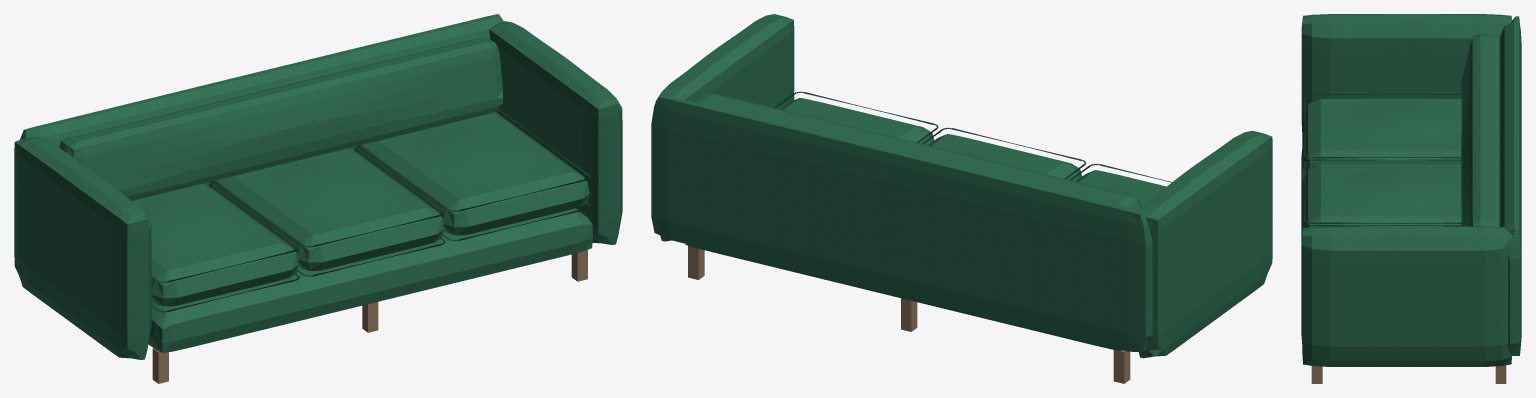
The model's file is FET-TUX-3-seat.glb.
3 renders of one model, left to right at view 1: azimuth 30°, elevation 25°; view 2: azimuth 150°, elevation 25°; view 3: azimuth 270°, elevation 25°, orthographic. The views are drawn at different scales.
Visible parts, largest first — view 1: inside-back:fabric:eyJwcmVzZXQiOiJ2ZWx2ZXQiLCJ3YXJwIjoiZW1lc, arm-pad-l:fabric:eyJwcmVzZXQiOiJ2ZWx2ZXQiLCJ3YXJwIjoiZW1lcmF, deck:fabric:eyJwcmVzZXQiOiJ2ZWx2ZXQiLCJ3YXJwIjoiZW1lcmFsZCIs, seat-3:fabric:eyJwcmVzZXQiOiJ2ZWx2ZXQiLCJ3YXJwIjoiZW1lcmFsZC, seat-2:fabric:eyJwcmVzZXQiOiJ2ZWx2ZXQiLCJ3YXJwIjoiZW1lcmFsZC, arm-pad-r:fabric:eyJwcmVzZXQiOiJ2ZWx2ZXQiLCJ3YXJwIjoiZW1lcmF, seat-1:fabric:eyJwcmVzZXQiOiJ2ZWx2ZXQiLCJ3YXJwIjoiZW1lcmFsZC, back-pad:fabric:eyJwcmVzZXQiOiJ2ZWx2ZXQiLCJ3YXJwIjoiZW1lcmFs, seat-2:piping:pbr, seat-3:piping:pbr, seat-1:piping:pbr, leg-fl:pbr; view 2: back-pad:fabric:eyJwcmVzZXQiOiJ2ZWx2ZXQiLCJ3YXJwIjoiZW1lcmFs, arm-pad-l:fabric:eyJwcmVzZXQiOiJ2ZWx2ZXQiLCJ3YXJwIjoiZW1lcmF, arm-pad-r:fabric:eyJwcmVzZXQiOiJ2ZWx2ZXQiLCJ3YXJwIjoiZW1lcmF, inside-back:fabric:eyJwcmVzZXQiOiJ2ZWx2ZXQiLCJ3YXJwIjoiZW1lc, seat-3:fabric:eyJwcmVzZXQiOiJ2ZWx2ZXQiLCJ3YXJwIjoiZW1lcmFsZC, seat-2:fabric:eyJwcmVzZXQiOiJ2ZWx2ZXQiLCJ3YXJwIjoiZW1lcmFsZC, seat-1:fabric:eyJwcmVzZXQiOiJ2ZWx2ZXQiLCJ3YXJwIjoiZW1lcmFsZC, deck:fabric:eyJwcmVzZXQiOiJ2ZWx2ZXQiLCJ3YXJwIjoiZW1lcmFsZCIs, leg-bl:pbr, leg-br:pbr, leg-cb:pbr; view 3: arm-pad-r:fabric:eyJwcmVzZXQiOiJ2ZWx2ZXQiLCJ3YXJwIjoiZW1lcmF, arm-pad-l:fabric:eyJwcmVzZXQiOiJ2ZWx2ZXQiLCJ3YXJwIjoiZW1lcmF, seat-1:fabric:eyJwcmVzZXQiOiJ2ZWx2ZXQiLCJ3YXJwIjoiZW1lcmFsZC, seat-2:fabric:eyJwcmVzZXQiOiJ2ZWx2ZXQiLCJ3YXJwIjoiZW1lcmFsZC, inside-back:fabric:eyJwcmVzZXQiOiJ2ZWx2ZXQiLCJ3YXJwIjoiZW1lc, back-pad:fabric:eyJwcmVzZXQiOiJ2ZWx2ZXQiLCJ3YXJwIjoiZW1lcmFs, seat-2:piping:pbr, seat-1:piping:pbr, deck:fabric:eyJwcmVzZXQiOiJ2ZWx2ZXQiLCJ3YXJwIjoiZW1lcmFsZCIs, seat-3:piping:pbr, leg-br:pbr, leg-fr:pbr.
Part boxes in pixels (left/top/right/bottom): inside-back:fabric:eyJwcmVzZXQiOiJ2ZWx2ZXQiLCJ3YXJwIjoiZW1lc: left=60, top=37, right=502, bottom=200; arm-pad-l:fabric:eyJwcmVzZXQiOiJ2ZWx2ZXQiLCJ3YXJwIjoiZW1lcmF: left=14, top=136, right=151, bottom=359; deck:fabric:eyJwcmVzZXQiOiJ2ZWx2ZXQiLCJ3YXJwIjoiZW1lcmFsZCIs: left=148, top=208, right=592, bottom=352; seat-3:fabric:eyJwcmVzZXQiOiJ2ZWx2ZXQiLCJ3YXJwIjoiZW1lcmFsZC: left=354, top=112, right=589, bottom=235; seat-2:fabric:eyJwcmVzZXQiOiJ2ZWx2ZXQiLCJ3YXJwIjoiZW1lcmFsZC: left=209, top=148, right=444, bottom=270; arm-pad-r:fabric:eyJwcmVzZXQiOiJ2ZWx2ZXQiLCJ3YXJwIjoiZW1lcmF: left=489, top=21, right=622, bottom=244; seat-1:fabric:eyJwcmVzZXQiOiJ2ZWx2ZXQiLCJ3YXJwIjoiZW1lcmFsZC: left=132, top=183, right=298, bottom=306; back-pad:fabric:eyJwcmVzZXQiOiJ2ZWx2ZXQiLCJ3YXJwIjoiZW1lcmFs: left=20, top=14, right=503, bottom=185; seat-2:piping:pbr: left=214, top=146, right=445, bottom=276; seat-3:piping:pbr: left=360, top=109, right=590, bottom=241; seat-1:piping:pbr: left=151, top=182, right=299, bottom=312; leg-fl:pbr: left=152, top=348, right=168, bottom=383; back-pad:fabric:eyJwcmVzZXQiOiJ2ZWx2ZXQiLCJ3YXJwIjoiZW1lcmFs: left=651, top=95, right=1152, bottom=351; arm-pad-l:fabric:eyJwcmVzZXQiOiJ2ZWx2ZXQiLCJ3YXJwIjoiZW1lcmF: left=1138, top=130, right=1272, bottom=358; arm-pad-r:fabric:eyJwcmVzZXQiOiJ2ZWx2ZXQiLCJ3YXJwIjoiZW1lcmF: left=655, top=14, right=794, bottom=241; inside-back:fabric:eyJwcmVzZXQiOiJ2ZWx2ZXQiLCJ3YXJwIjoiZW1lc: left=697, top=93, right=1141, bottom=211; seat-3:fabric:eyJwcmVzZXQiOiJ2ZWx2ZXQiLCJ3YXJwIjoiZW1lcmFsZC: left=780, top=98, right=934, bottom=145; seat-2:fabric:eyJwcmVzZXQiOiJ2ZWx2ZXQiLCJ3YXJwIjoiZW1lcmFsZC: left=928, top=134, right=1082, bottom=181; seat-1:fabric:eyJwcmVzZXQiOiJ2ZWx2ZXQiLCJ3YXJwIjoiZW1lcmFsZC: left=1075, top=170, right=1166, bottom=206; deck:fabric:eyJwcmVzZXQiOiJ2ZWx2ZXQiLCJ3YXJwIjoiZW1lcmFsZCIs: left=685, top=244, right=1121, bottom=350; leg-bl:pbr: left=1113, top=350, right=1130, bottom=383; leg-br:pbr: left=688, top=245, right=704, bottom=279; leg-cb:pbr: left=901, top=298, right=917, bottom=331; arm-pad-r:fabric:eyJwcmVzZXQiOiJ2ZWx2ZXQiLCJ3YXJwIjoiZW1lcmF: left=1301, top=226, right=1512, bottom=366; arm-pad-l:fabric:eyJwcmVzZXQiOiJ2ZWx2ZXQiLCJ3YXJwIjoiZW1lcmF: left=1301, top=14, right=1511, bottom=131; seat-1:fabric:eyJwcmVzZXQiOiJ2ZWx2ZXQiLCJ3YXJwIjoiZW1lcmFsZC: left=1302, top=98, right=1461, bottom=173; seat-2:fabric:eyJwcmVzZXQiOiJ2ZWx2ZXQiLCJ3YXJwIjoiZW1lcmFsZC: left=1302, top=164, right=1461, bottom=231; inside-back:fabric:eyJwcmVzZXQiOiJ2ZWx2ZXQiLCJ3YXJwIjoiZW1lc: left=1461, top=34, right=1500, bottom=226; back-pad:fabric:eyJwcmVzZXQiOiJ2ZWx2ZXQiLCJ3YXJwIjoiZW1lcmFs: left=1500, top=16, right=1521, bottom=355; seat-2:piping:pbr: left=1304, top=159, right=1461, bottom=223; seat-1:piping:pbr: left=1304, top=93, right=1461, bottom=178; deck:fabric:eyJwcmVzZXQiOiJ2ZWx2ZXQiLCJ3YXJwIjoiZW1lcmFsZCIs: left=1301, top=149, right=1305, bottom=339; seat-3:piping:pbr: left=1304, top=225, right=1461, bottom=227; leg-br:pbr: left=1495, top=365, right=1506, bottom=383; leg-fr:pbr: left=1311, top=366, right=1322, bottom=383.
Size of the model in its own units: 2.2 by 0.74 by 0.9.
17 materials, 8 textured.
